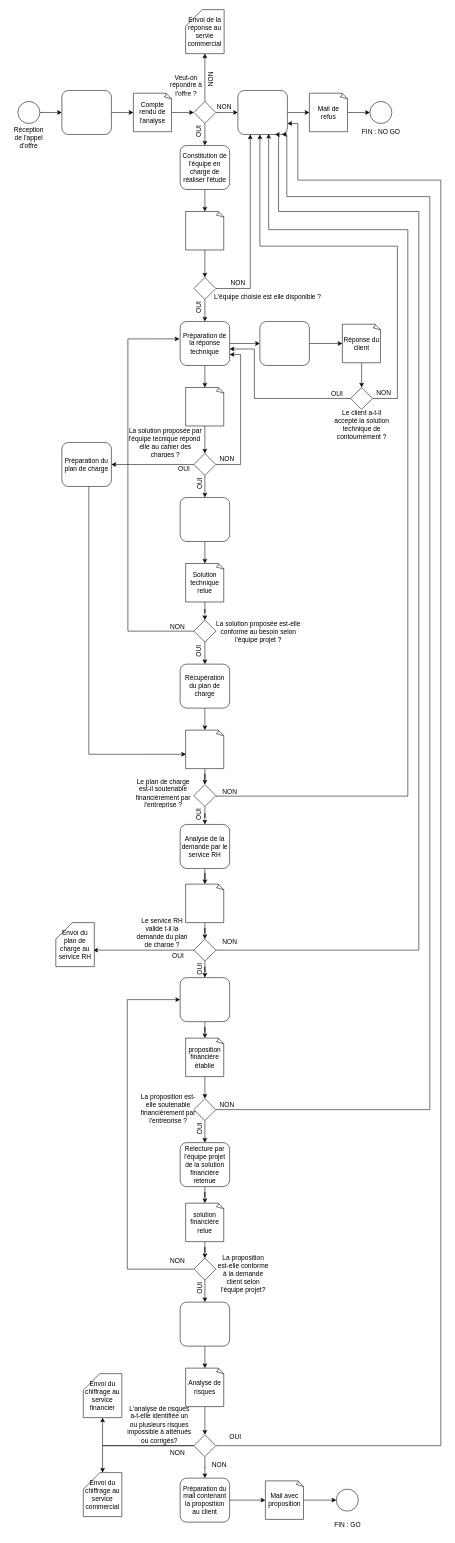
This 455x1543 diagram has some shape labels left out. The box of each missing label's shape, as (x1, y1, x2, y2) in pixels:
Analyse de l'appel d'offre: (61, 90, 111, 134)
Echange de questions/ réponses avec le client: (259, 321, 309, 365)
organigram-me de l'équipe dédiée: (185, 211, 224, 250)
plan de charge: (185, 730, 224, 769)
Préparation de la réponse financière: (180, 977, 230, 1022)
Préparation du mail de refus au client: (237, 90, 287, 134)
Relecture par le chef de projet de la solution technique retenue: (180, 497, 230, 541)
Réalisation de l’analyse de risques: (180, 1302, 230, 1346)
Réponse disponibilité par le service RH: (185, 884, 224, 923)
Solution technique choisie: (185, 387, 224, 426)
